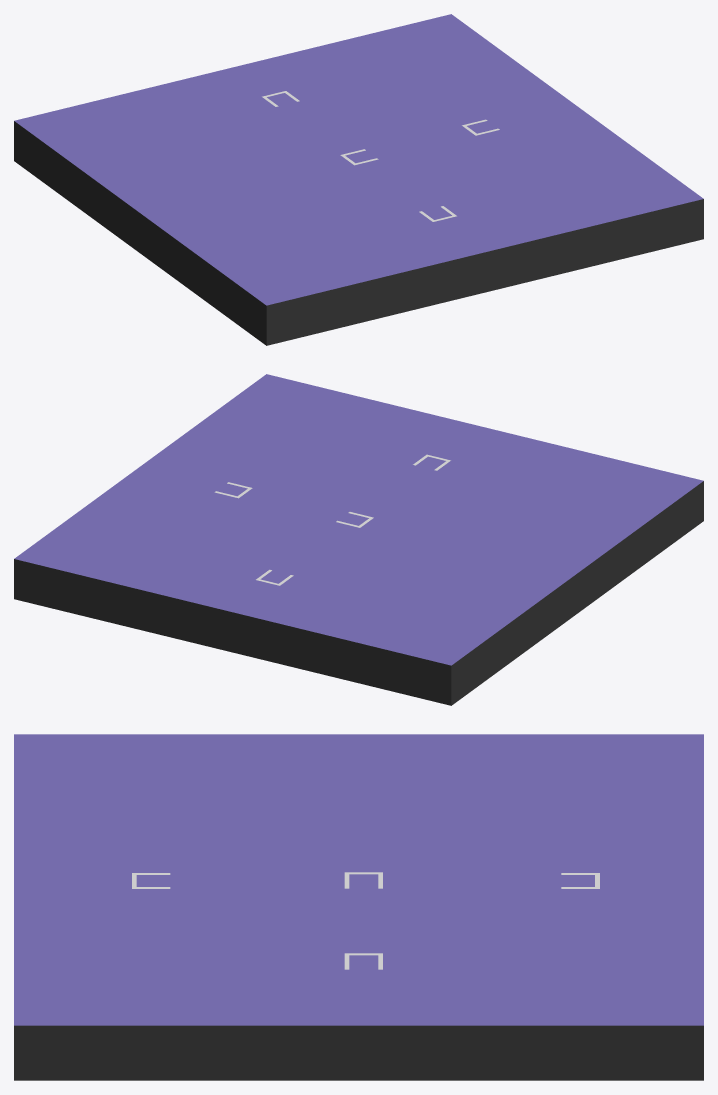
File: road_6.fbx
3 renders of one model, top to bottom at view 1: azimuth 30°, elevation 25°; view 2: azimuth 150°, elevation 25°; view 3: azimuth 270°, elevation 25°, orthographic. The views are drawn at different scales.
Visible parts, largest first — view 1: Road.009; view 2: Road.009; view 3: Road.009.
Boxes of the visible parts, box(x1,y1,x2,y2) form: Road.009: box(14, 14, 703, 345); Road.009: box(14, 374, 703, 705); Road.009: box(14, 734, 703, 1080).
Size of the model in its own units: 800 by 71.68 by 800.
